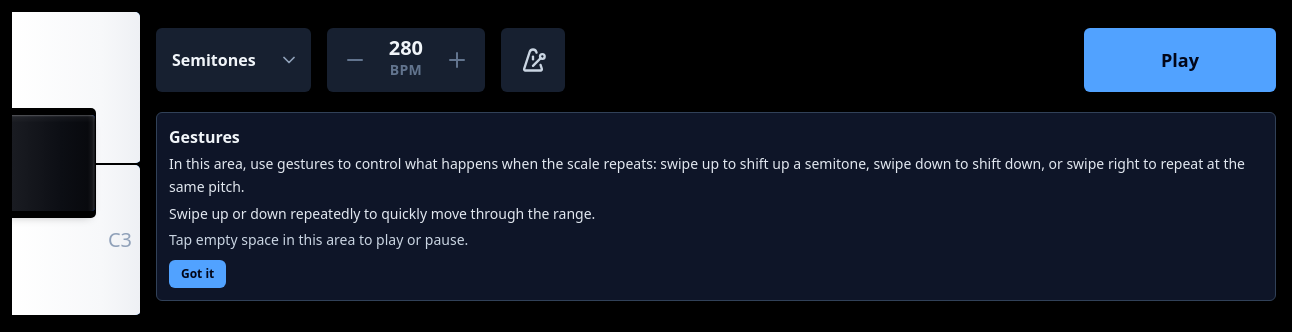
Test case: Scales page › Gestures › Auto-reversal at the top of the range shows down-direction gesture feedback
Expected: the button "Play" is enabled, [1084, 28, 1276, 92]
Click the button "Got it": (198, 274) [169, 260, 226, 288]
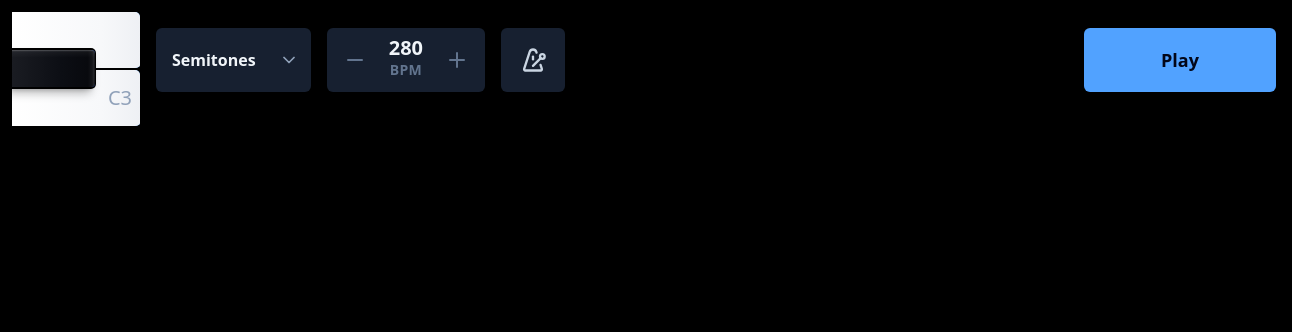
Click the button "Play": (1180, 60) [1084, 28, 1276, 92]
Wait 5800 ms
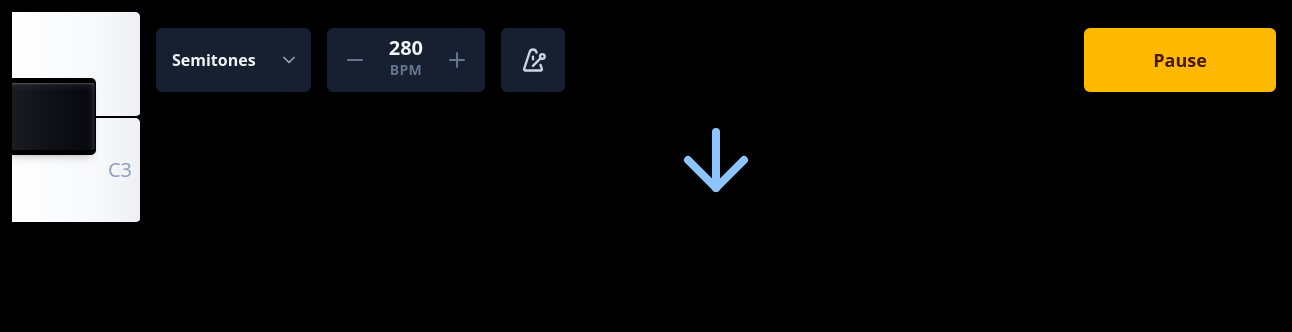
Expected: the icon with class "lucide-arrow-down" is shown, [668, 112, 764, 208]
